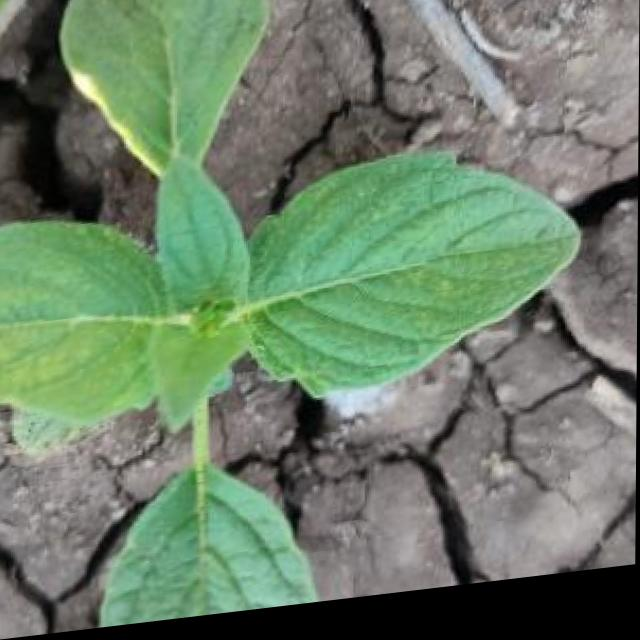crop: (0, 0, 617, 640)
